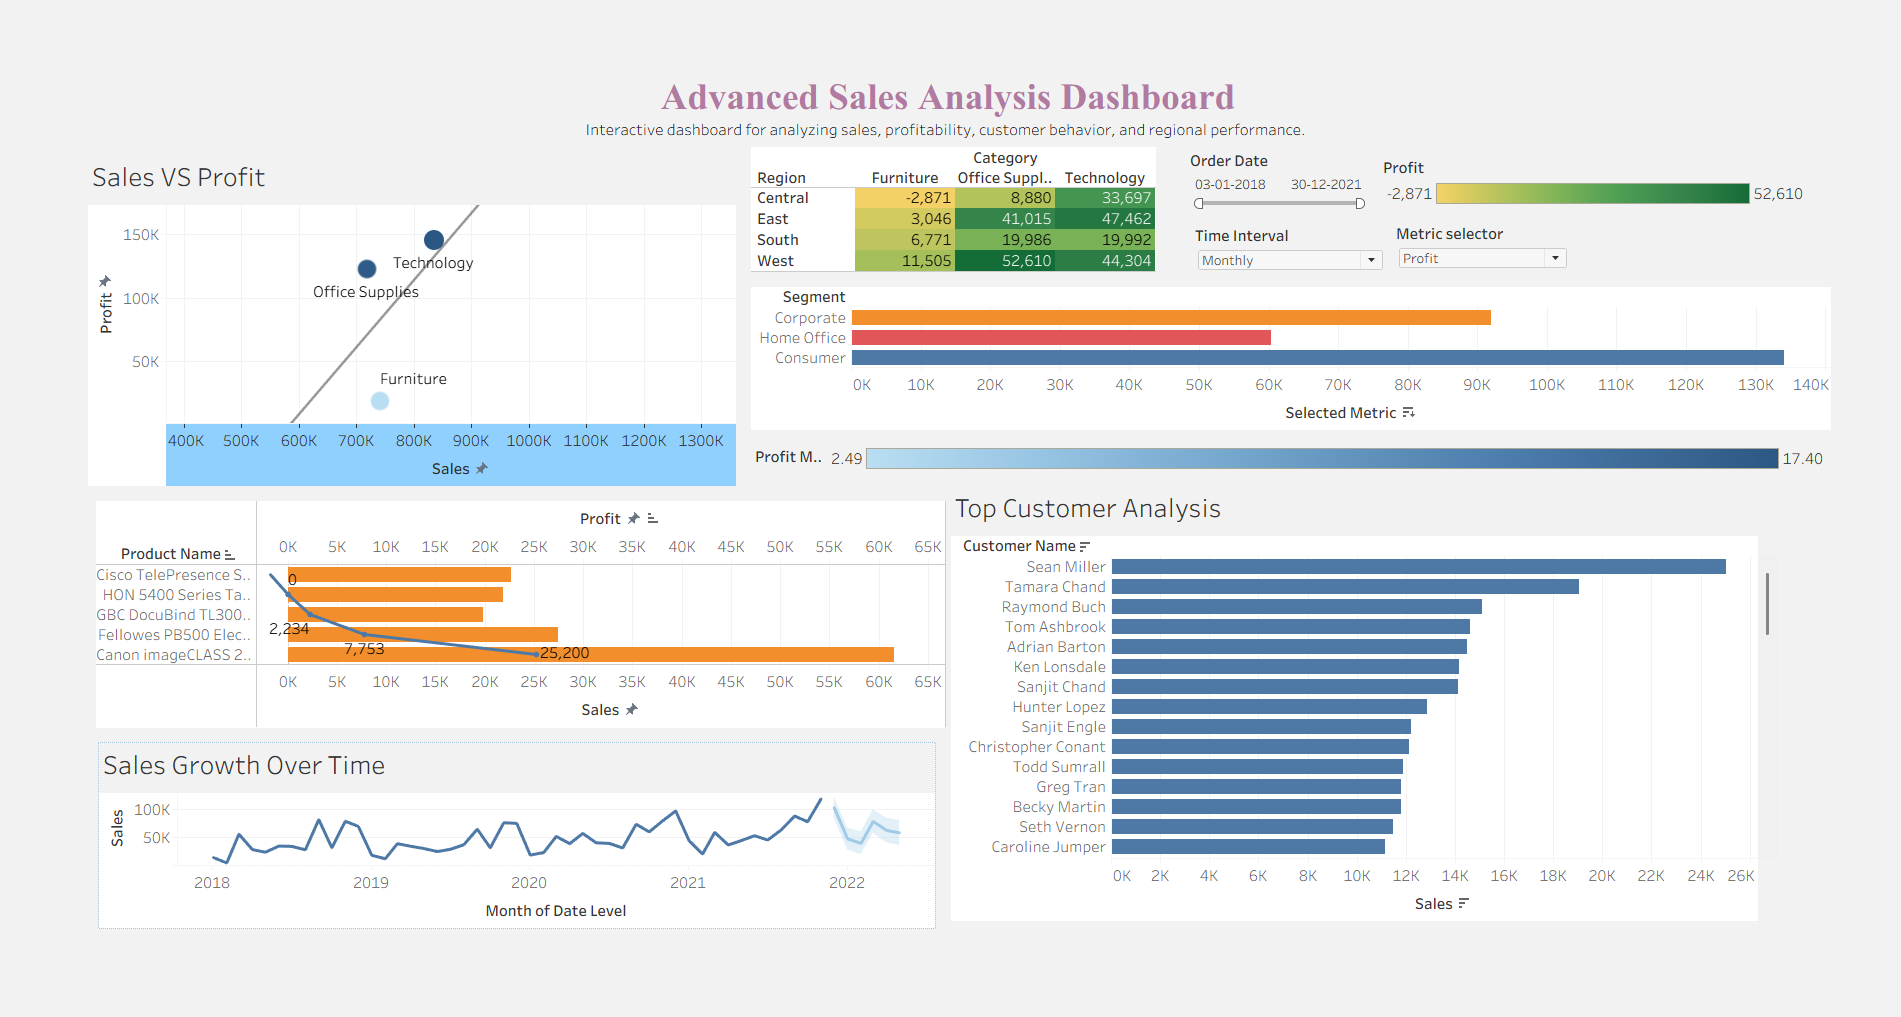

Layout of this report page (visuals, bound fields, positions):
{"tool":"tableau","page":{"name":"Advance sales Analysis Dashboard","canvas":[1000,1000],"units":"permille","ordinal":0},"visuals":[{"type":"text","box":[0,0,1000,51.7]},{"type":"text","box":[0,50.5,997,25.9]},{"type":"worksheet","title":"Region wise Profit Analysis","mark":"Square","rows":["Region"],"cols":["Category"],"box":[386.2,79.9,264.9,161]},{"type":"filter","title":"Sales Growth Over Time","param":"[federated.1c47dy70nwagrc1h8ob5v1c0etsq].[none:Order Date:qk]","box":[637.3,88.1,101.4,85.8]},{"type":"worksheet","title":"Sales VS Profit","mark":"Circle","rows":["Profit"],"cols":["Sales"],"box":[13.3,92.8,366.9,381.9]},{"type":"legend","title":"Region wise Profit Analysis","param":"[federated.1c47dy70nwagrc1h8ob5v1c0etsq].[sum:Profit:qk]","box":[746.5,95.2,240.8,70.5]},{"type":"parameter","param":"[Parameters].[Parameter 1]","box":[753.8,171.6,98.4,56.4]},{"type":"parameter","param":"[Parameters].[Parameter 2]","box":[639.7,173.9,108,63.5]},{"type":"worksheet","title":"Customer segment Analysis","mark":"Automatic","rows":["Segment"],"cols":["Calculation_0026399074193411"],"box":[388.7,245.6,611.4,218.6]},{"type":"legend","title":"Sales VS Profit","param":"[federated.1c47dy70nwagrc1h8ob5v1c0etsq].[usr:Calculation_0026399068766209:qk]","box":[388.7,421.9,612,51.7]},{"type":"worksheet","title":"Top Customer Analysis","mark":"Automatic","rows":["Customer Name"],"cols":["Sales"],"box":[501.5,474.7,468.3,500.6]},{"type":"worksheet","title":"Top 5 Products","mark":"Automatic","rows":["Product Name"],"cols":["Sales","Profit"],"box":[15.1,487.7,485.8,276.2]},{"type":"worksheet","title":"Sales Growth Over Time","mark":"Line","rows":["Sales"],"cols":["Calculation_0026399078924292"],"box":[16.3,765,479.2,224.4]}]}

Visuals, with their boxes on the dashboard's canvas, which has no fixed pixel size, in thousandths of its width and height (x1, y1, x2, y2). These are canvas units, not pixel positions in the 1901x1017 screenshot, which may show the page scaled, cropped or inside an application window:
text: locate(0, 0, 1000, 52)
text: locate(0, 50, 997, 76)
"Region wise Profit Analysis" worksheet (Square marks): locate(386, 80, 651, 241)
"Sales Growth Over Time" filter: locate(637, 88, 739, 174)
"Sales VS Profit" worksheet (Circle marks): locate(13, 93, 380, 475)
"Region wise Profit Analysis" legend: locate(746, 95, 987, 166)
parameter: locate(754, 172, 852, 228)
parameter: locate(640, 174, 748, 237)
"Customer segment Analysis" worksheet: locate(389, 246, 1000, 464)
"Sales VS Profit" legend: locate(389, 422, 1001, 474)
"Top Customer Analysis" worksheet: locate(502, 475, 970, 975)
"Top 5 Products" worksheet: locate(15, 488, 501, 764)
"Sales Growth Over Time" worksheet (Line marks): locate(16, 765, 496, 989)
